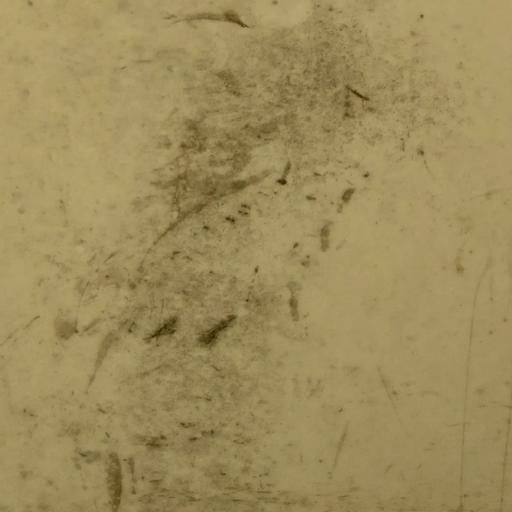stain: (48, 28, 456, 512)
